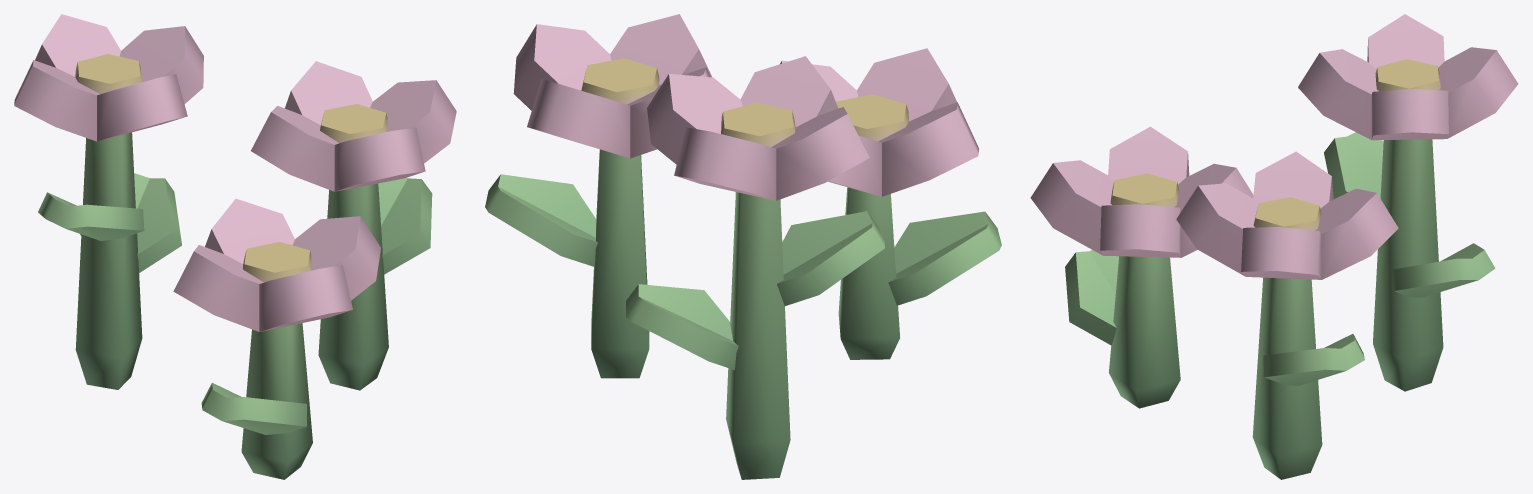
File: flowers_tall_pink.gltf
The picture shows the model from 3 angles, left to right: view 1: azimuth 30°, elevation 25°; view 2: azimuth 150°, elevation 25°; view 3: azimuth 270°, elevation 25°; orthographic projection. The views are drawn at different scales.
Visible parts, largest first — view 1: flowers_tall_pink; view 2: flowers_tall_pink; view 3: flowers_tall_pink.
Boxes of the visible parts, <box> form: flowers_tall_pink: <box>14,14,456,479</box>; flowers_tall_pink: <box>485,14,1001,479</box>; flowers_tall_pink: <box>1030,14,1518,479</box>.
Bounding box in the file's own units: 0.546 × 0.4616 × 0.6183.
